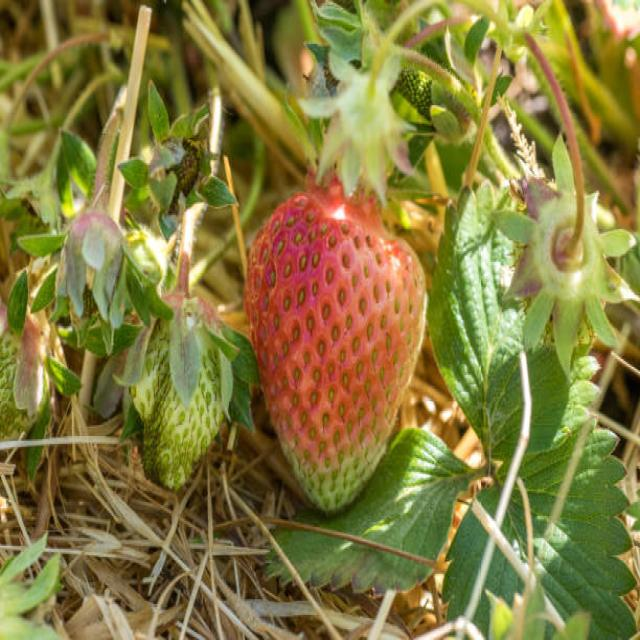Healthy Fruit: (245, 189, 427, 509)
